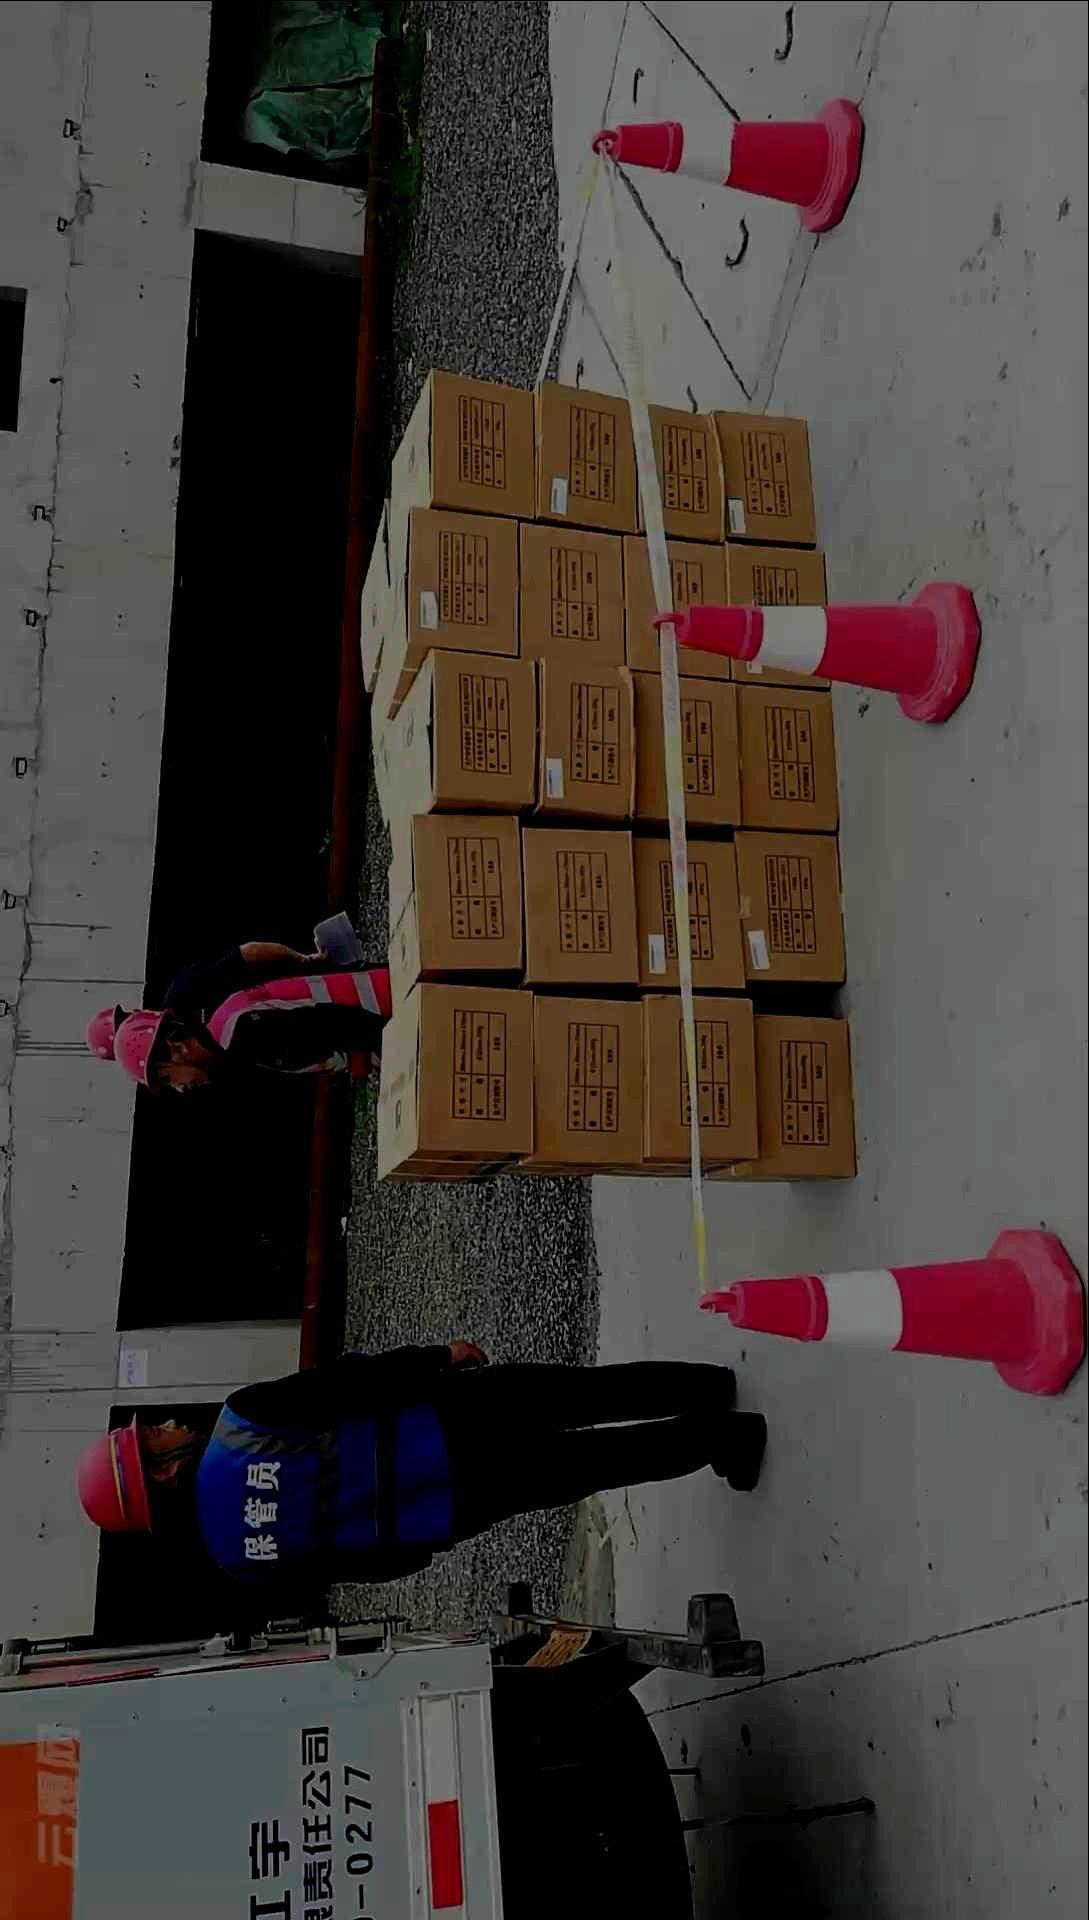helmet: (75, 1410, 210, 1535), (112, 1007, 214, 1097), (84, 1004, 133, 1062)
